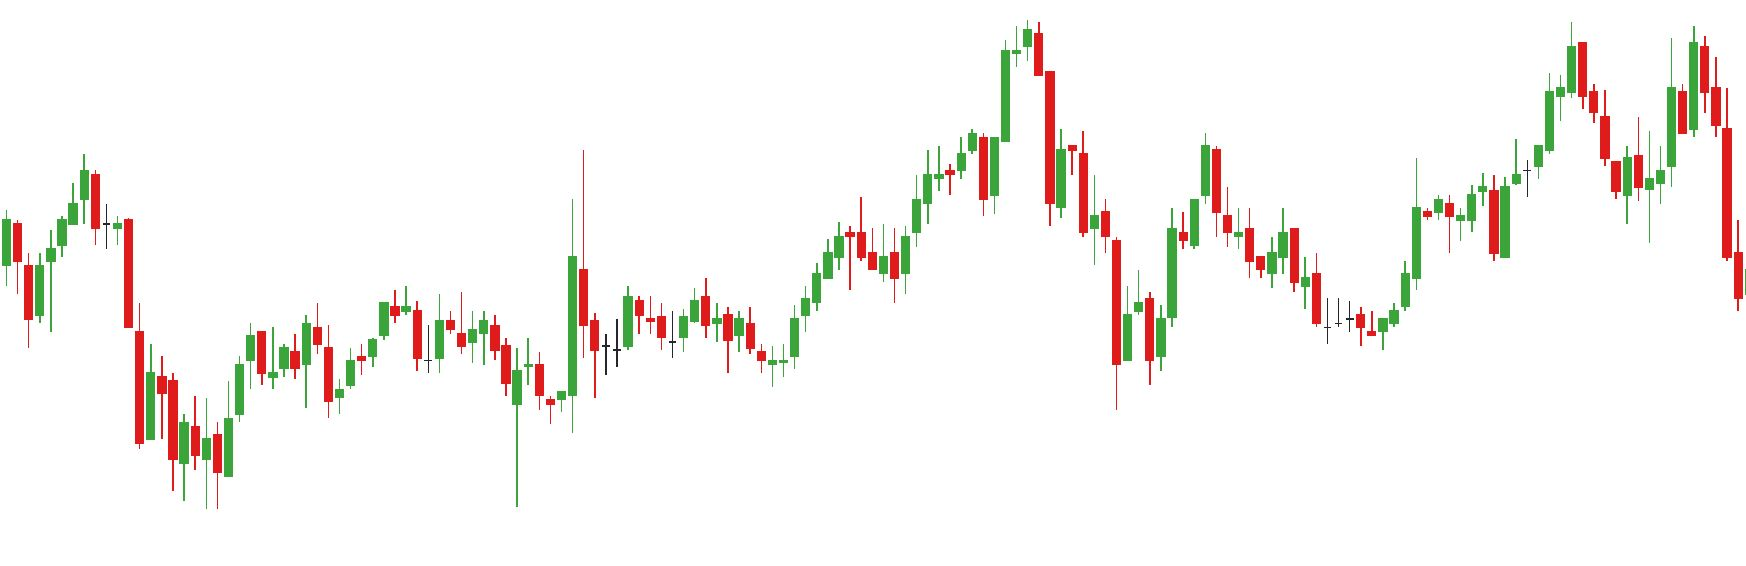buy: (320, 326, 523, 504), (1444, 195, 1516, 262)
sell: (1576, 37, 1687, 172)
